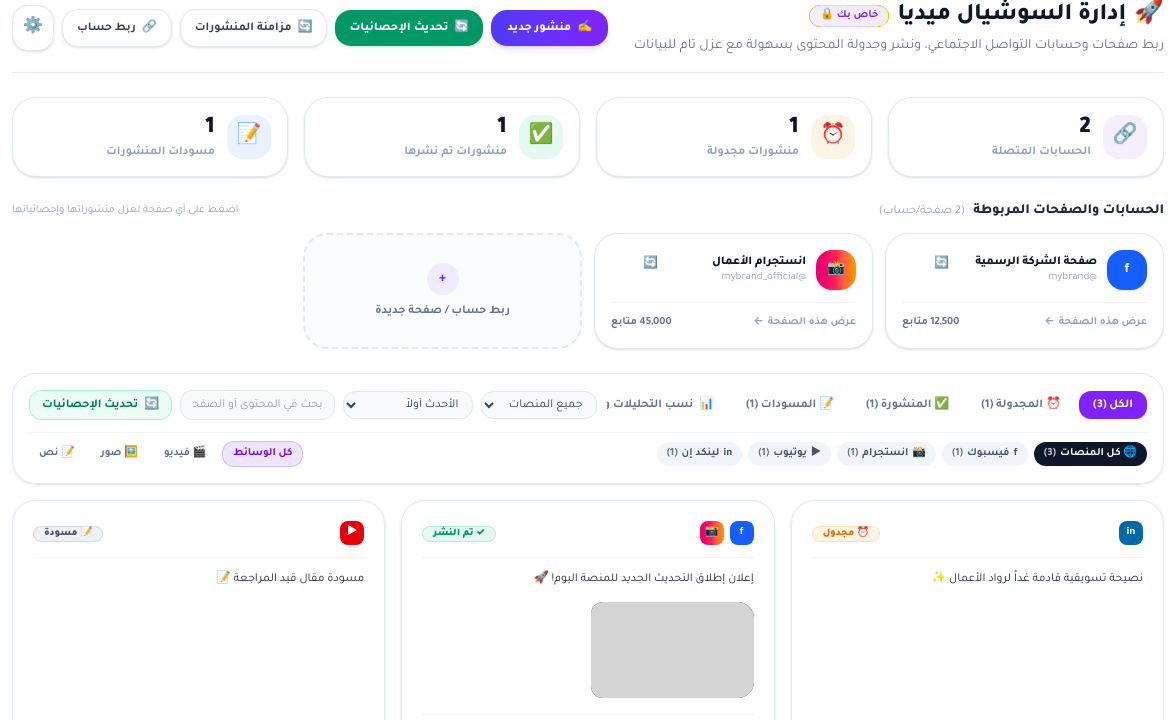
Test: SocialMediaBoard.vue and Social Media Management Features › filters posts by status tabs (all, scheduled, published, draft)
Click the button "⏰ المجدولة (1)": click(1021, 404) [967,390,1075,418]
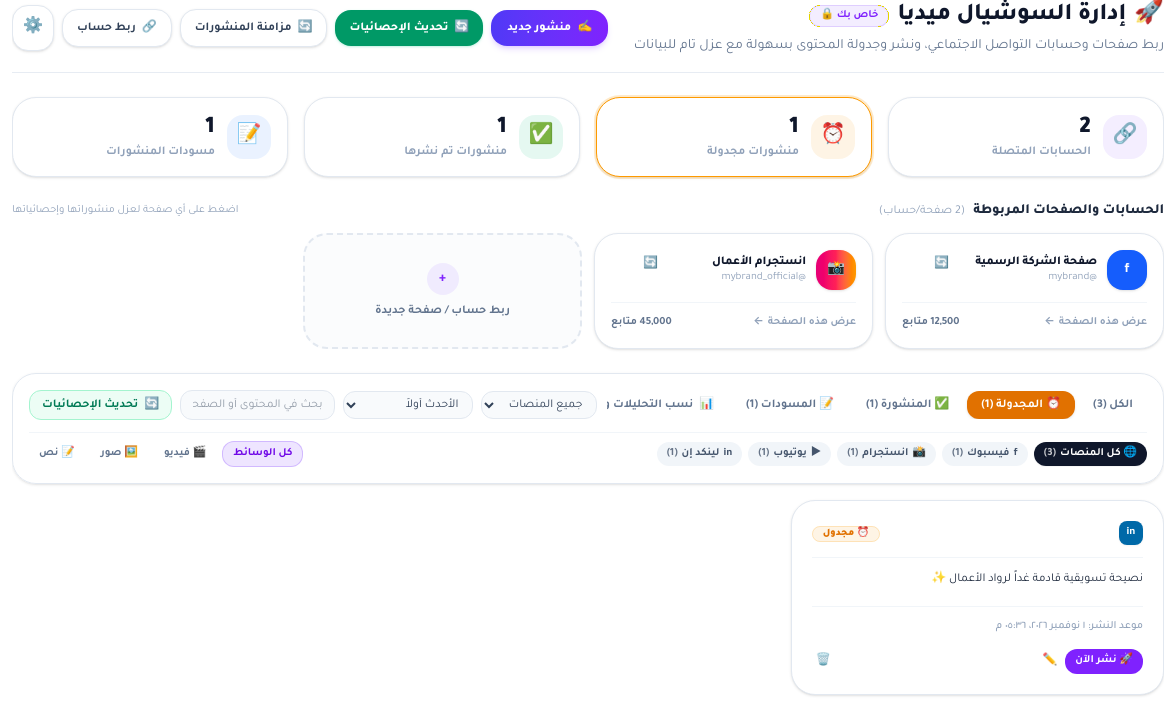
Expected: the text "نصيحة تسويقية" is shown, [931,573,1143,585]
Now the text "إعلان إطلاق التحديث" is gone
# Click 'المنشورة' tab
Click the button "✅ المنشورة (1)": click(908, 404) [852,390,963,418]
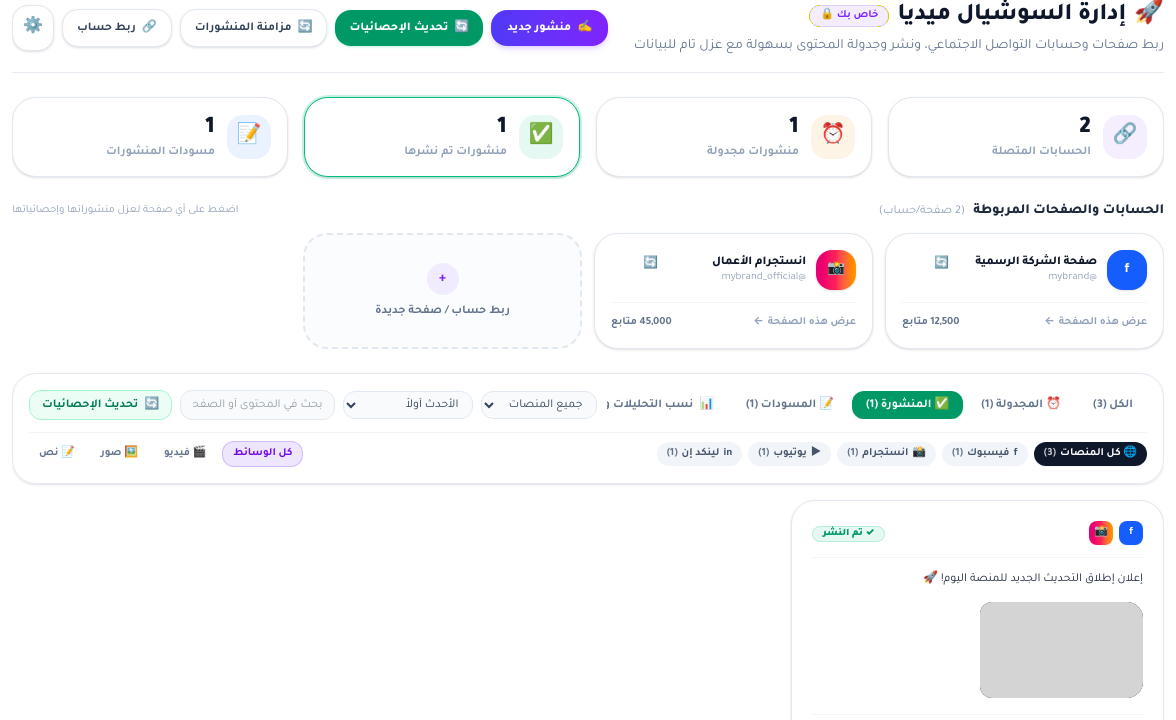
Now the text "إعلان إطلاق التحديث" is shown, box [923,573,1143,585]
Now the text "نصيحة تسويقية" is gone
